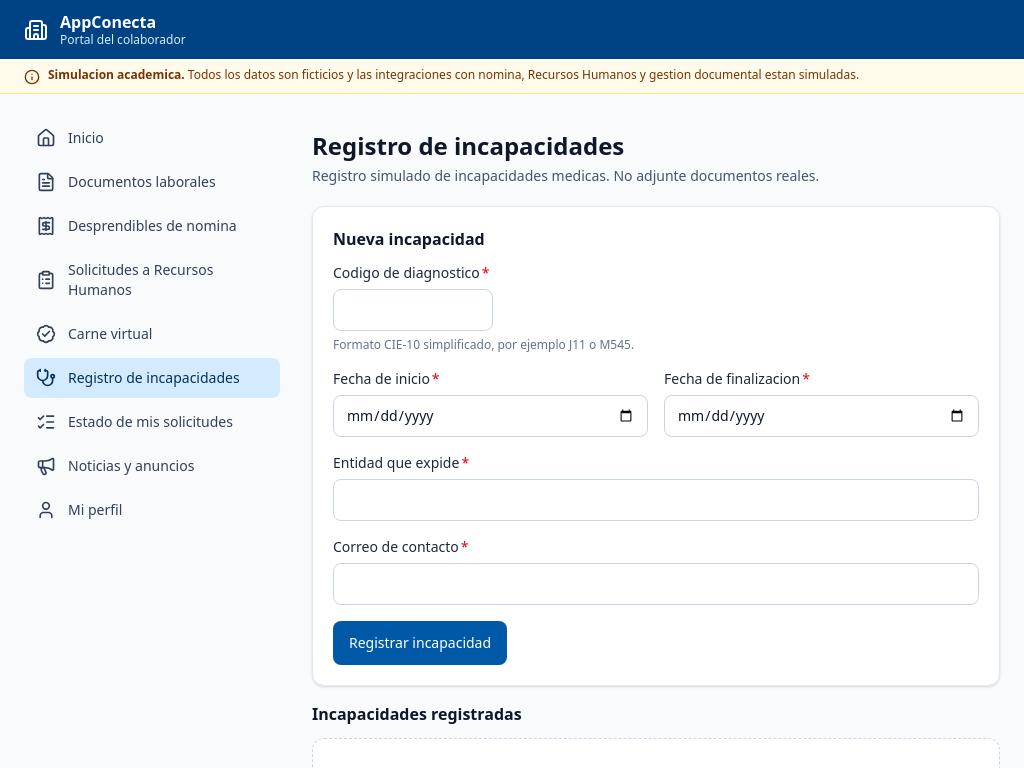
Test: Registro de incapacidades › rechaza fechas invertidas
Type "J11" into the field labelled "Codigo de diagnostico*" at (413, 310), box [333,289,493,331]
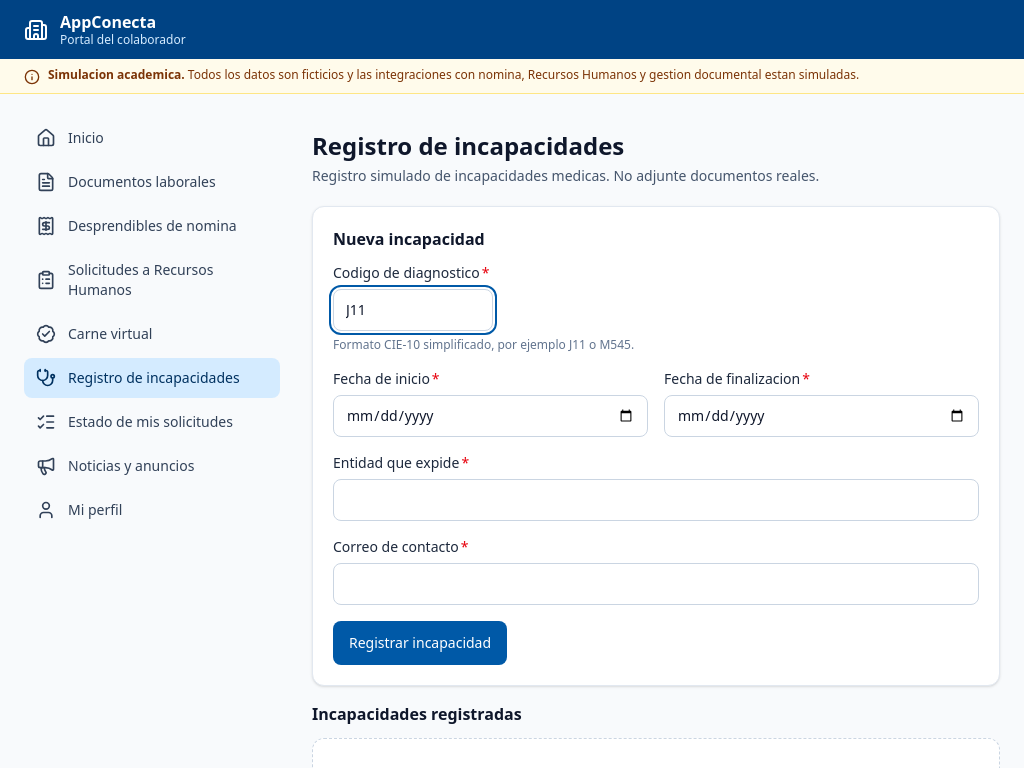
Type "2026-08-13" into the date field labelled "Fecha de inicio*" at (490, 416), box [333,395,648,437]
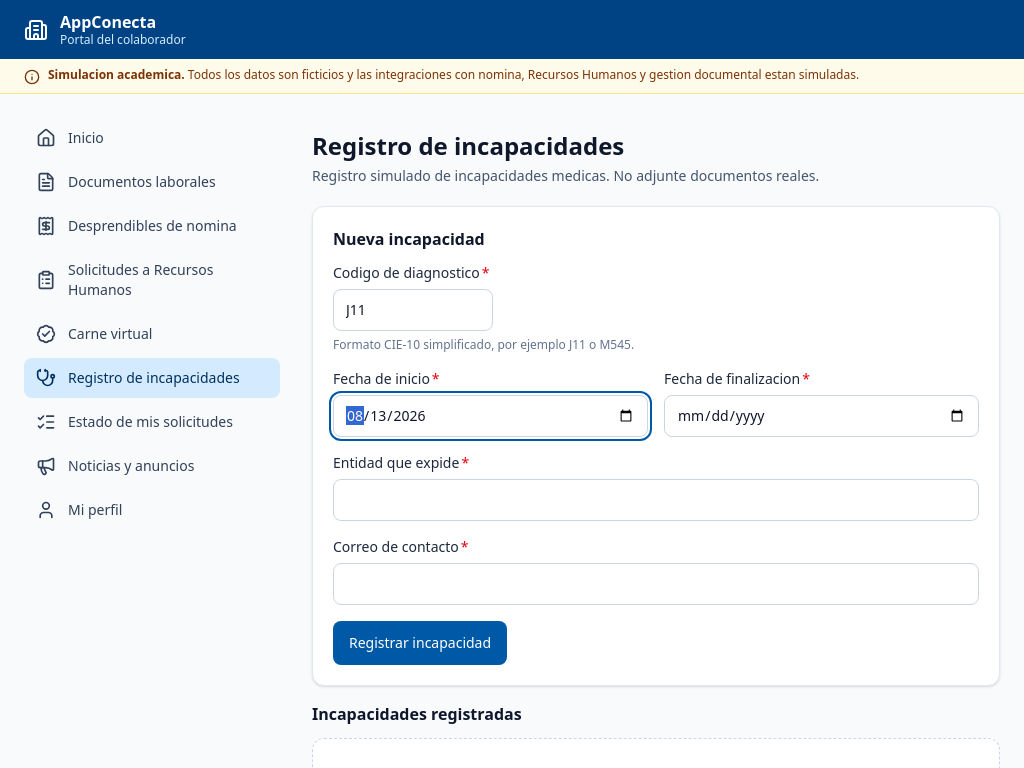
Type "2026-08-10" into the date field labelled "Fecha de finalizacion*" at (822, 416), box [664,395,979,437]
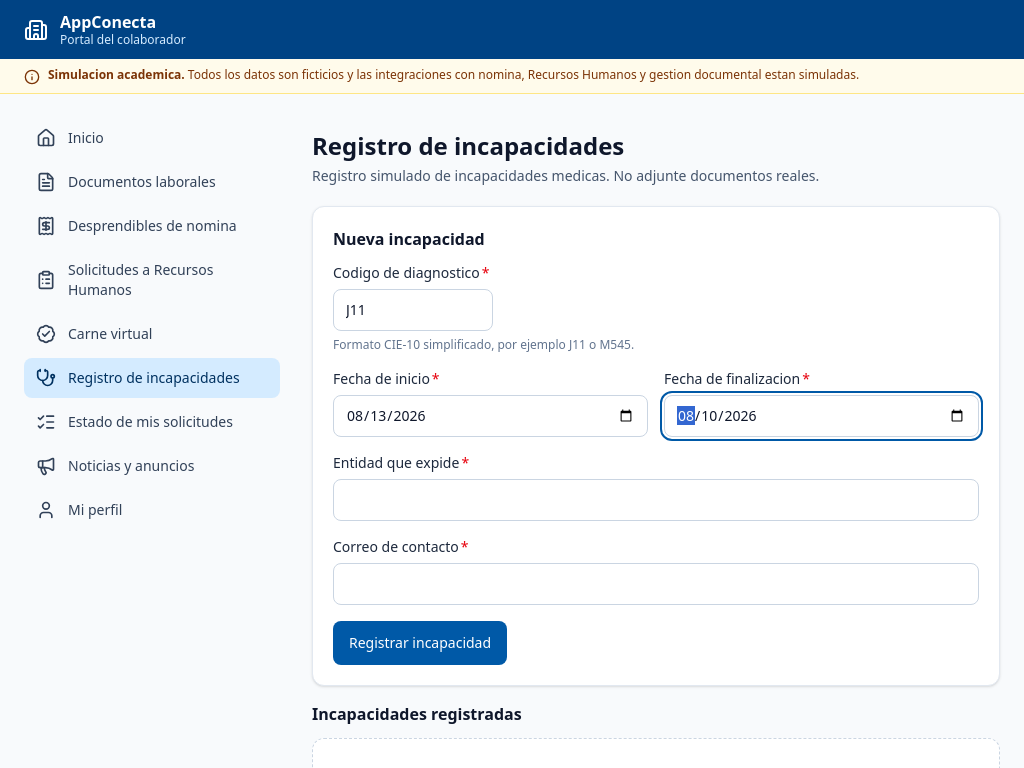
Type "IPS Ficticia del Norte" into the field labelled "Entidad que expide*" at (656, 500), box [333,479,979,521]
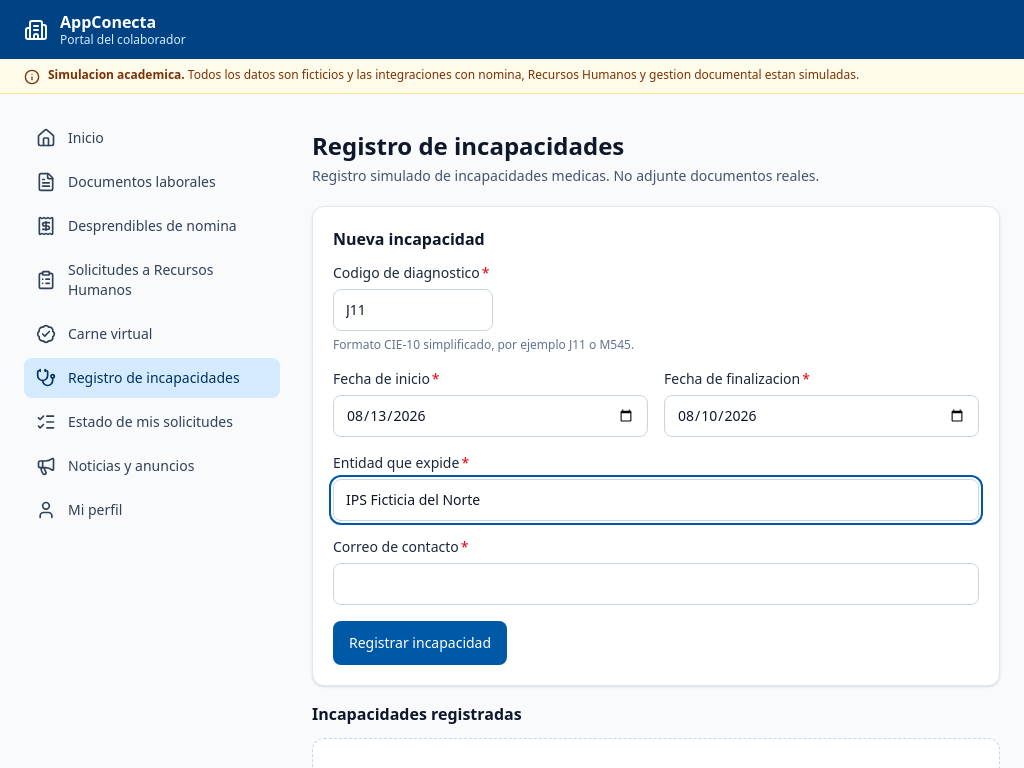
Type "laura.restrepo@appconecta-demo.co" into the field labelled "Correo de contacto*" at (656, 584), box [333,563,979,605]
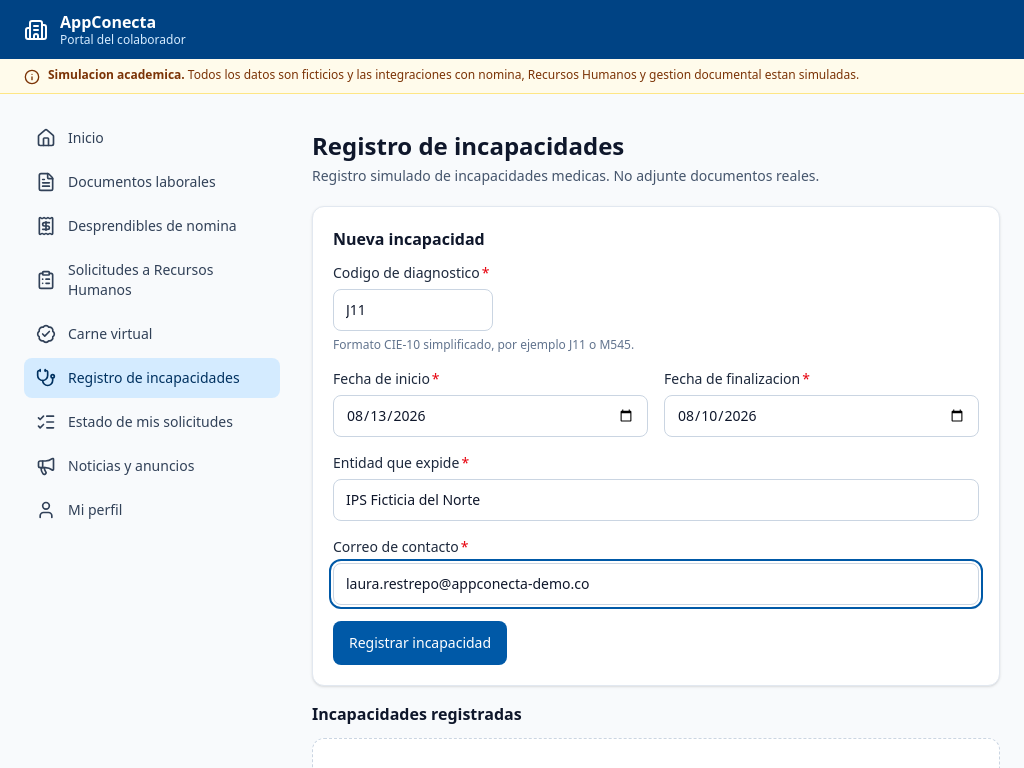
Click the button "Registrar incapacidad" at (420, 643), box [333,621,507,665]
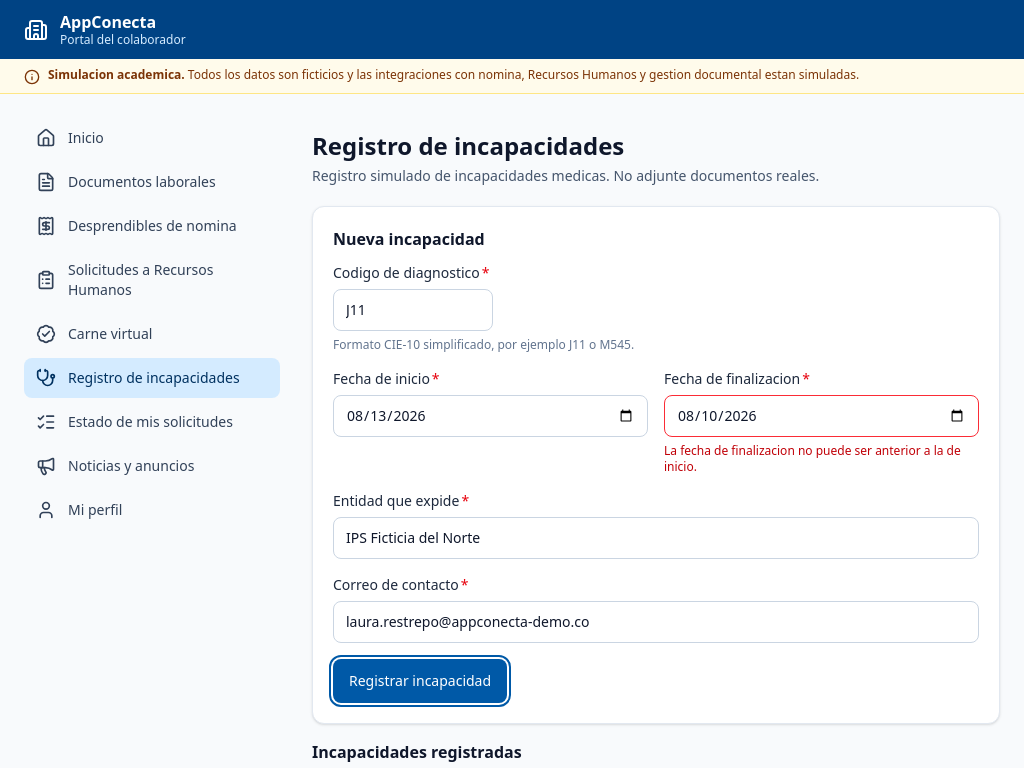
Now the text "La fecha de finalizacion no puede ser anterior a la de inicio." is shown, box [664,443,979,475]
